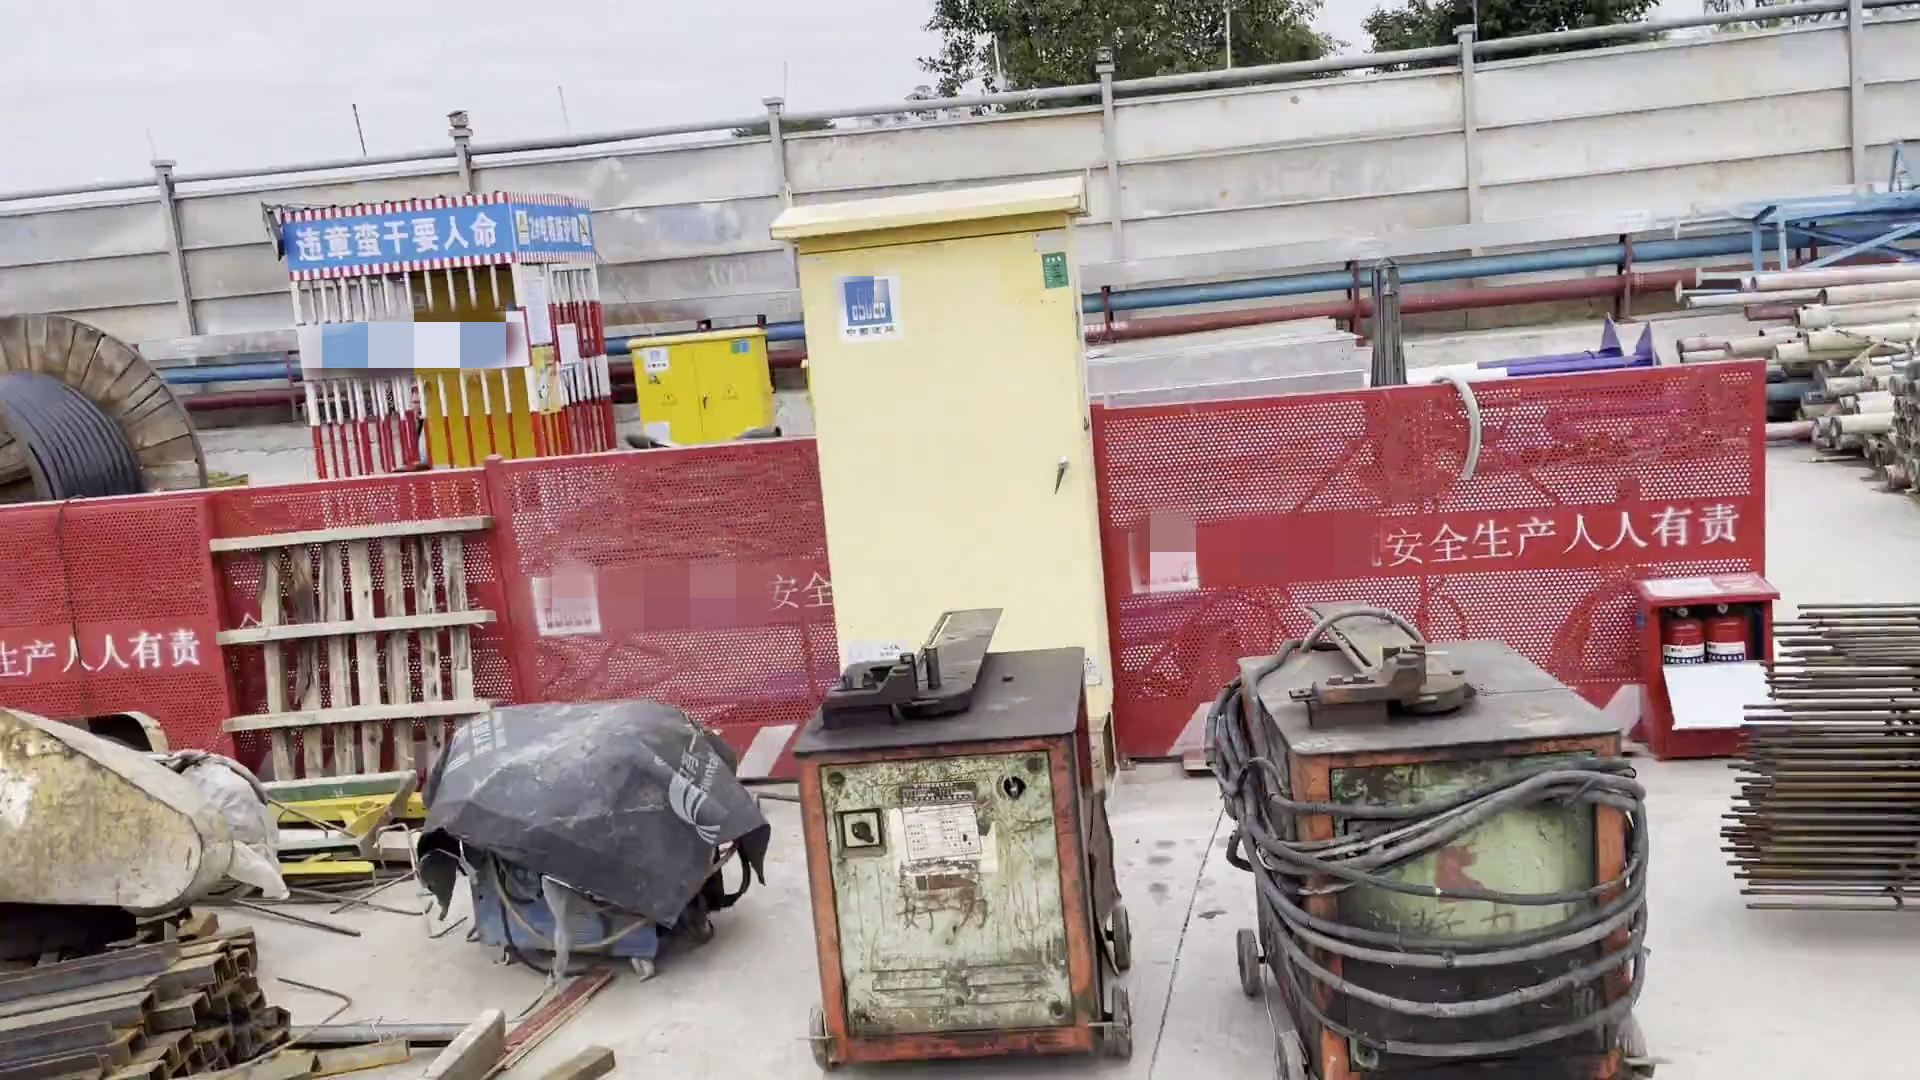cutter: (1174, 578, 1697, 1080), (787, 589, 1184, 1080)
ebox: (752, 167, 1166, 698), (608, 316, 796, 454), (414, 309, 547, 467)
fence: (3, 440, 840, 771), (1095, 357, 1792, 704)
rebar: (1741, 574, 1920, 918)
slogan: (237, 177, 638, 281)
